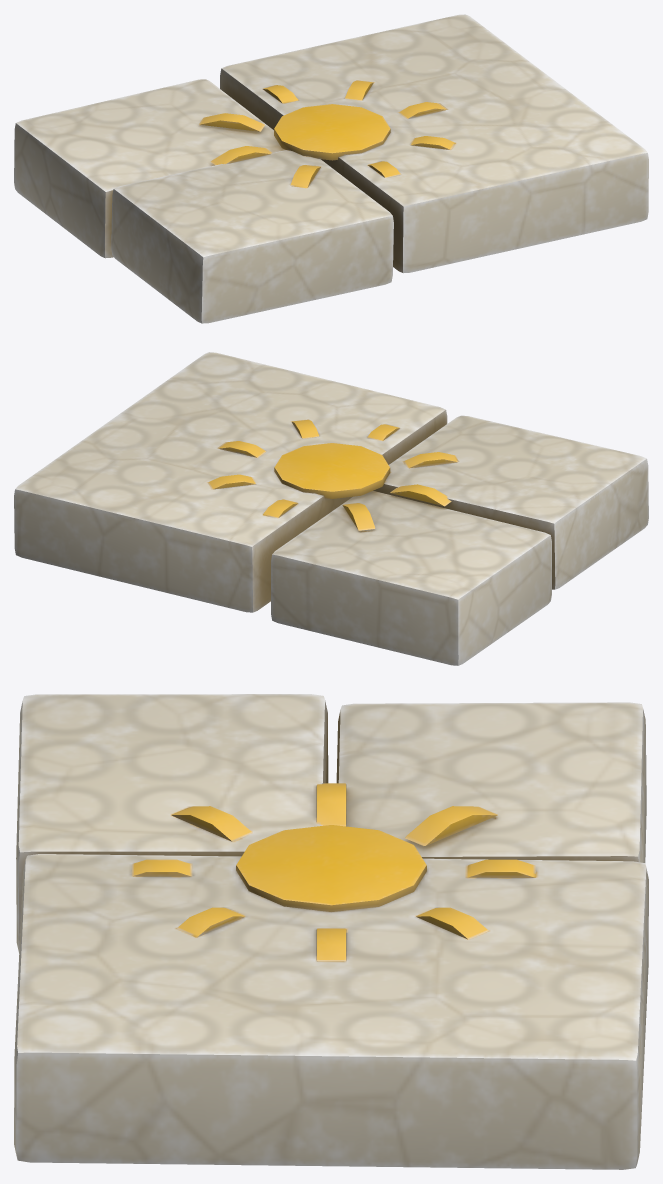
Rendered from Divin_Dalle.fbx.
3 views of the same model, one above another, from view 1: azimuth 30°, elevation 25°; view 2: azimuth 150°, elevation 25°; view 3: azimuth 270°, elevation 25° (orthographic). The views are drawn at different scales.
Parts seen in each view (by area): view 1: Divin_Dalle; view 2: Divin_Dalle; view 3: Divin_Dalle.
Boxes of the visible parts, left/top/right/bottom form: Divin_Dalle: left=14, top=14, right=648, bottom=323; Divin_Dalle: left=14, top=352, right=648, bottom=665; Divin_Dalle: left=14, top=694, right=648, bottom=1169.
Bounding box in the file's own units: 808 × 140 × 598.
1 material, 1 textured.
